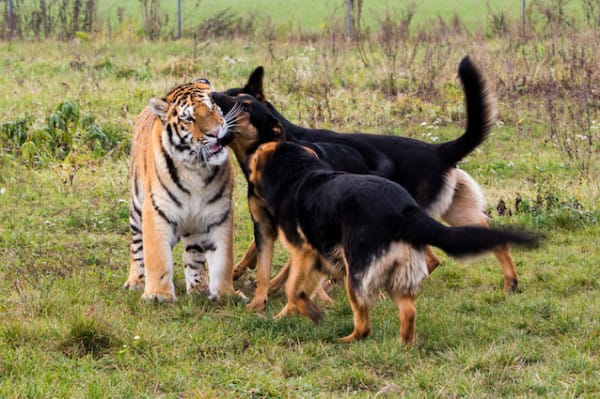dog: (220, 78, 523, 290), (217, 94, 434, 357)
tiger: (125, 73, 246, 303)
